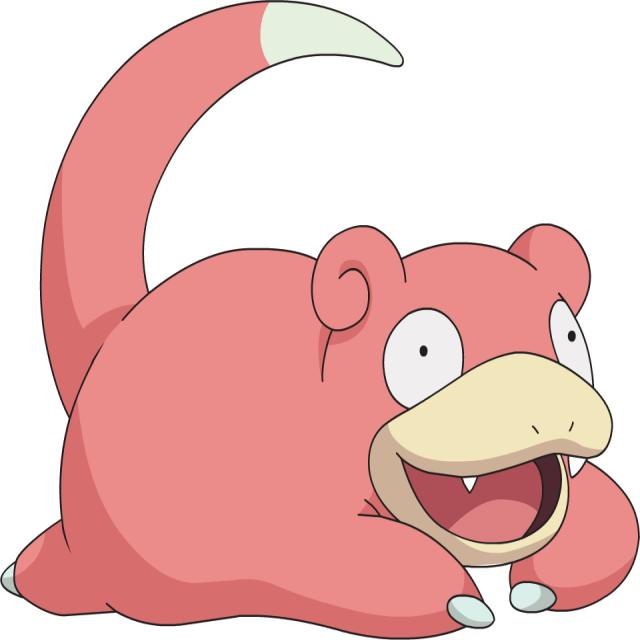Slowpoke: (56, 226, 640, 630)
